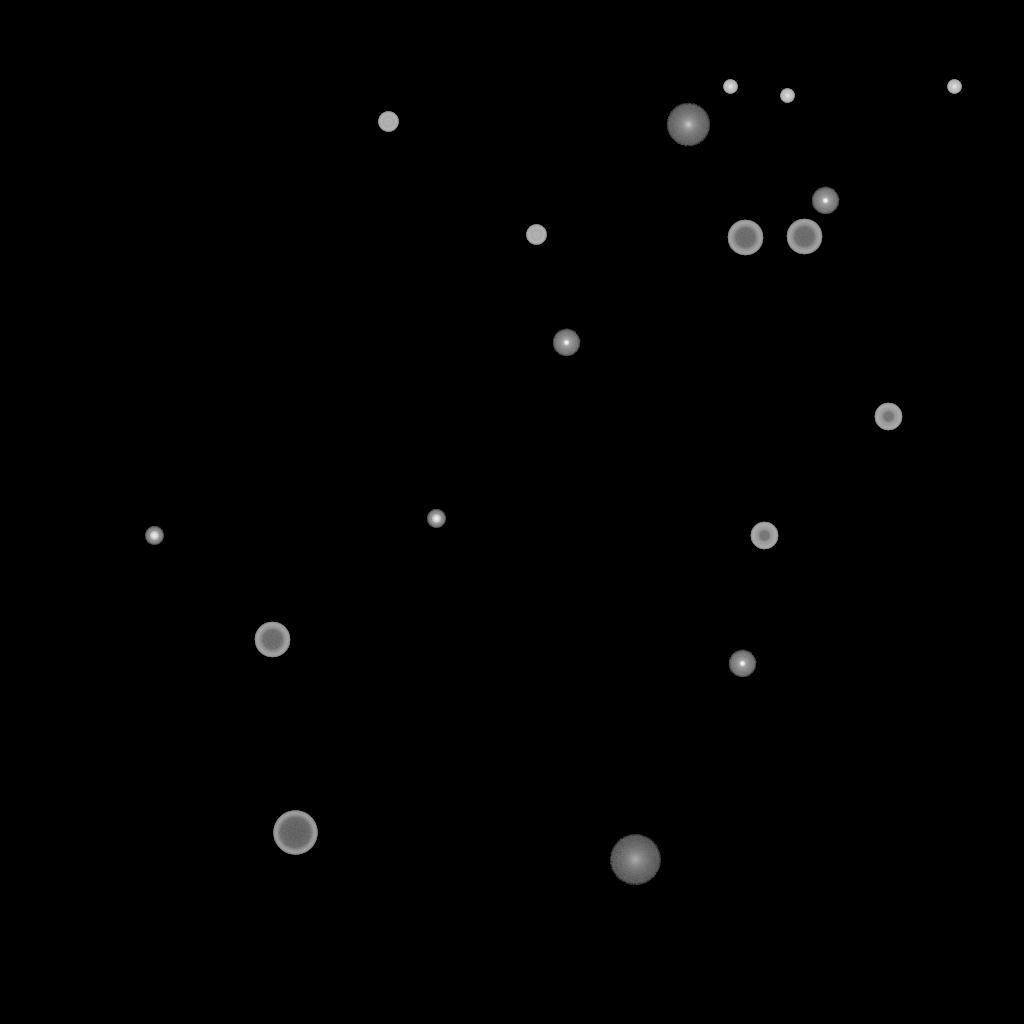depth:-10: (552, 329, 580, 357), (811, 187, 839, 215), (728, 650, 756, 678)
depth:-20: (145, 527, 163, 545), (427, 510, 445, 528)
depth:-30: (780, 89, 794, 103), (947, 80, 961, 94), (723, 80, 737, 94)
depth:-40: (526, 225, 546, 245), (378, 112, 398, 132)
depth:-50: (750, 522, 778, 550), (874, 403, 902, 431)
depth:-60: (254, 622, 290, 658), (727, 220, 763, 256), (786, 219, 822, 255)
depth:-70: (273, 811, 317, 855)
depth:10: (666, 103, 710, 147)
depth:20: (609, 835, 661, 885)
